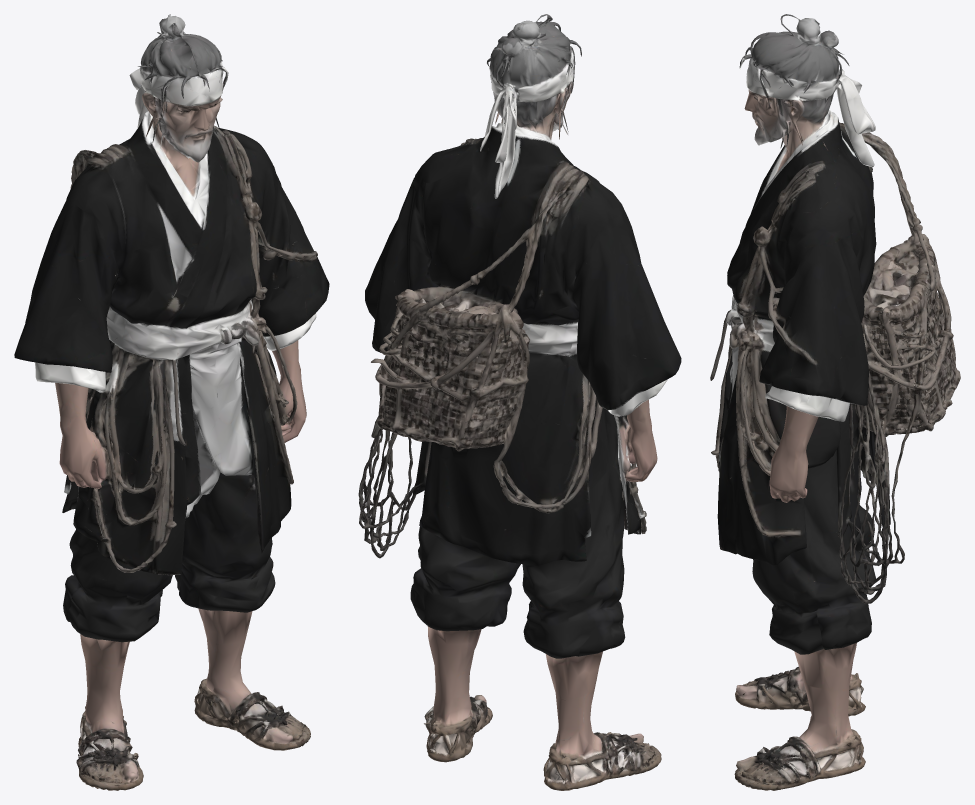
Rendered from fisher3.glb.
3 renders of one model, left to right at view 1: azimuth 30°, elevation 25°; view 2: azimuth 150°, elevation 25°; view 3: azimuth 270°, elevation 25°, orthographic. The views are drawn at different scales.
Parts seen in each view (by area): view 1: Mesh_0; view 2: Mesh_0; view 3: Mesh_0.
Boxes of the visible parts, <box> form: Mesh_0: <box>14,14,329,790</box>; Mesh_0: <box>358,14,681,790</box>; Mesh_0: <box>710,14,960,790</box>.
Bounding box in the file's own units: 0.4448 × 1 × 0.3158.
1 material, 1 textured.
